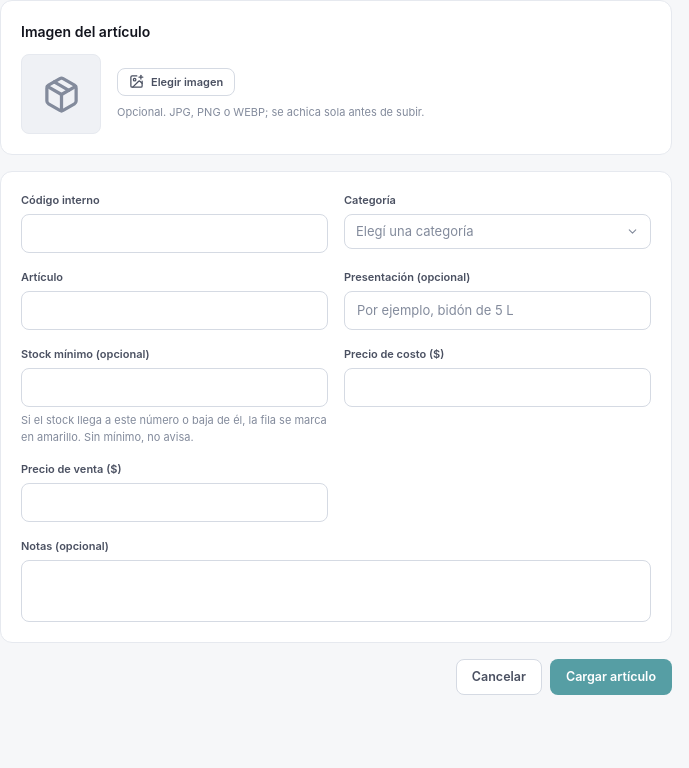
it: SupplyFormScreen: nuevo artículo › pide código, nombre, categoría y los dos precios
Step 1. Click the button "Cargar artículo" → (611, 677), box [550,658,672,695]
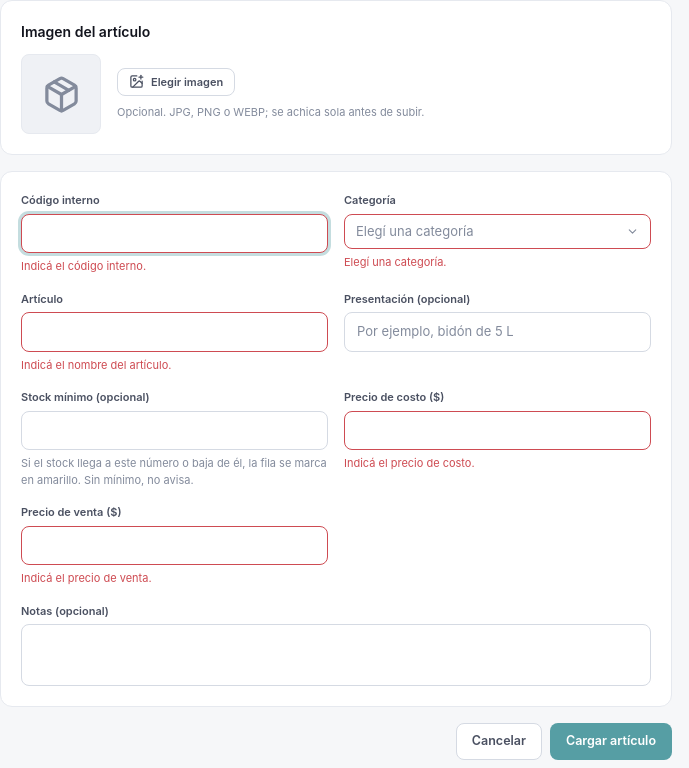
Check: the text "Indicá el código interno." is shown, box [21,259,146,273]
Check: the text "Indicá el nombre del artículo." is shown, box [21,358,172,372]
Check: the text "Elegí una categoría." is shown, box [344,255,446,269]
